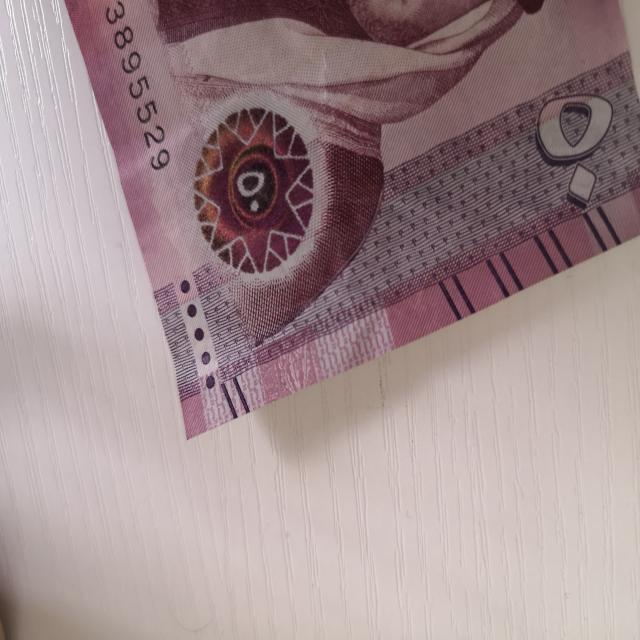50-dinar: (65, 0, 640, 440)
